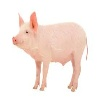heo: (11, 10, 88, 91)
